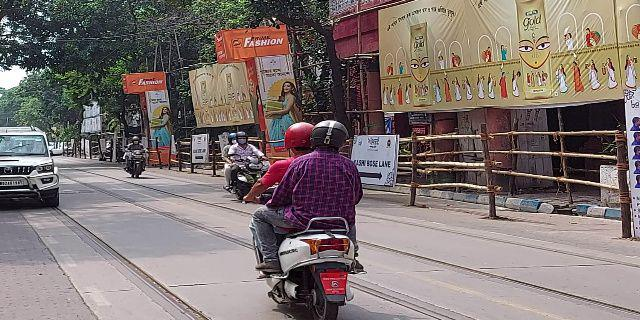Car: (1, 124, 66, 212)
Motorbike: (250, 112, 354, 320), (216, 128, 267, 202), (115, 133, 151, 180)
